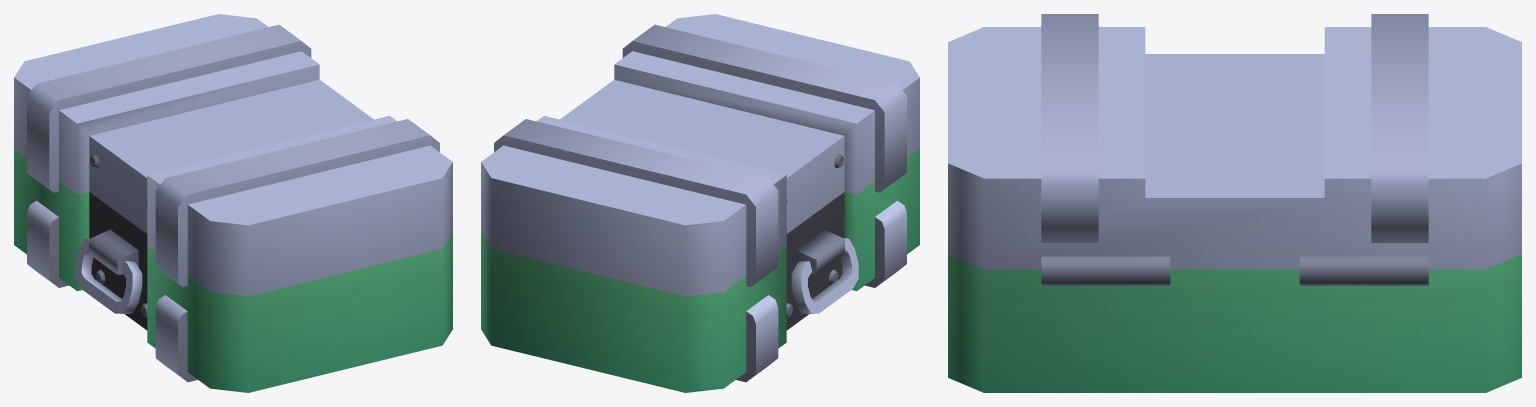
The model's file is crate-small.glb.
3 views of the same model, side by side, from view 1: azimuth 30°, elevation 25°; view 2: azimuth 150°, elevation 25°; view 3: azimuth 270°, elevation 25° (orthographic). The views are drawn at different scales.
Parts seen in each view (by area): view 1: lid, crate-small; view 2: lid, crate-small; view 3: lid, crate-small.
Part boxes in pixels (left/top/right/bottom): lid: left=14, top=14, right=452, bottom=296; crate-small: left=14, top=149, right=452, bottom=392; lid: left=481, top=14, right=919, bottom=296; crate-small: left=481, top=149, right=919, bottom=392; lid: left=948, top=14, right=1521, bottom=269; crate-small: left=948, top=254, right=1521, bottom=392.
Bounding box in the file's own units: 0.5495 × 0.37 × 0.8.
1 material, 1 textured.
